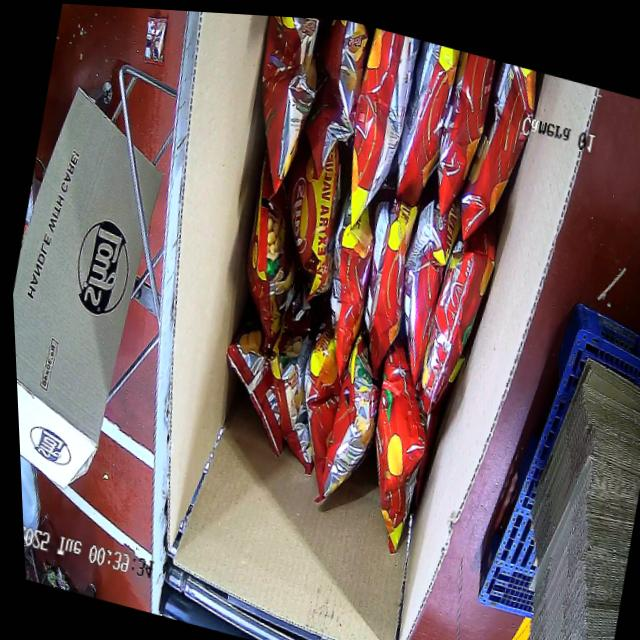MASALA: (164, 10, 562, 575)
